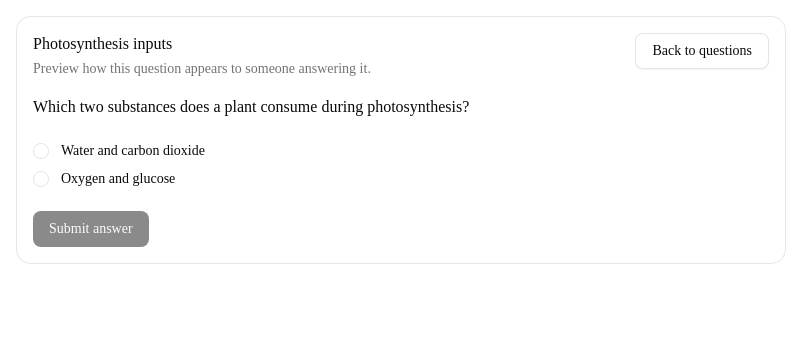
/mcqs/[id]/preview page › correct answer shows a success result
Expected: the text "Photosynthesis inputs" is shown, [33,35,172,52]
Click the radio button named "water and carbon dioxide": (41, 151) [33,143,49,159]
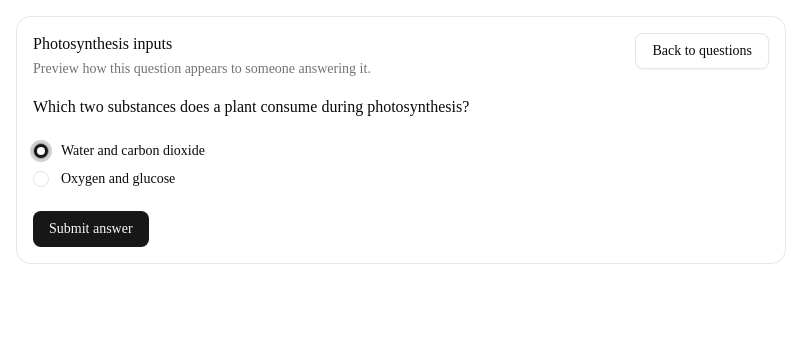
Click the button "Submit answer": (91, 229) [33,211,149,247]
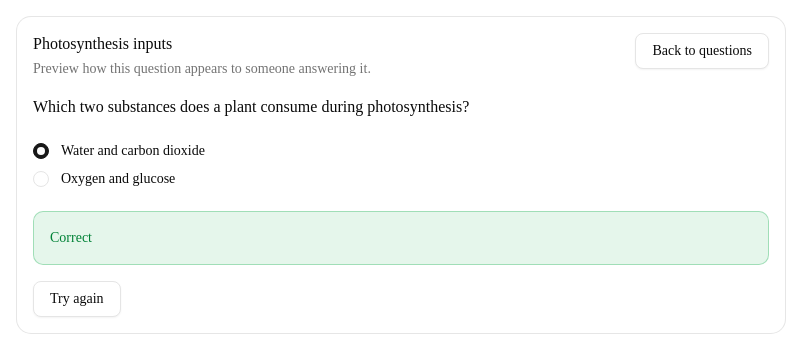
Expected: the text "Correct" is shown, [33,211,769,265]
